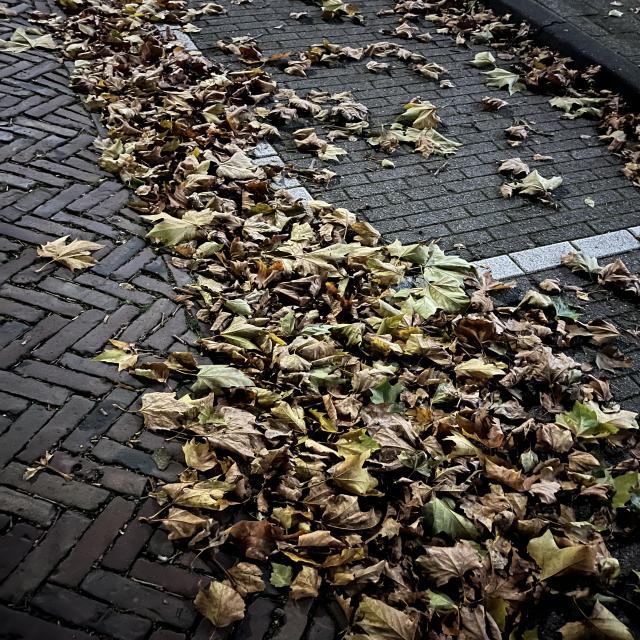leaves: (158, 398, 640, 518), (110, 341, 610, 400), (288, 200, 393, 388), (267, 550, 631, 598), (128, 165, 285, 258), (164, 520, 632, 551), (344, 597, 640, 640), (88, 94, 374, 138), (220, 36, 457, 87), (393, 241, 505, 339), (472, 36, 592, 112), (57, 20, 175, 96), (179, 259, 289, 337), (517, 287, 626, 341), (503, 118, 563, 209), (95, 138, 260, 165), (590, 89, 640, 176), (385, 0, 500, 36), (56, 0, 227, 22), (200, 572, 261, 627), (406, 98, 459, 161), (569, 252, 640, 298), (287, 136, 350, 184), (0, 6, 57, 49), (37, 236, 104, 271), (300, 0, 367, 25), (369, 125, 420, 152)
pavement: (35, 270, 77, 640), (2, 234, 35, 640), (0, 50, 52, 233), (79, 335, 110, 640), (412, 160, 496, 240), (77, 271, 177, 338), (118, 399, 145, 640), (566, 178, 636, 248), (56, 94, 88, 232), (514, 0, 636, 34), (154, 550, 198, 640), (508, 207, 562, 279), (592, 34, 640, 79), (94, 164, 118, 237)
